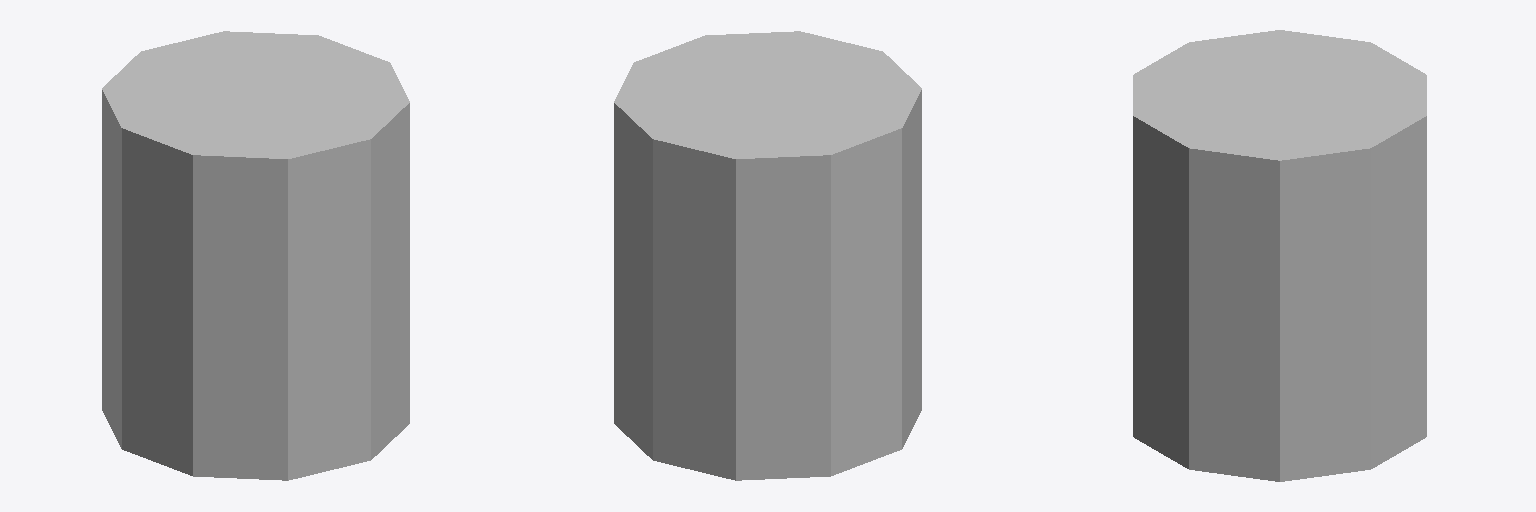
File: BuildingV3.obj
3 views of the same model, side by side, from view 1: azimuth 30°, elevation 25°; view 2: azimuth 150°, elevation 25°; view 3: azimuth 270°, elevation 25° (orthographic).
Parts seen in each view (by area): view 1: polySurface28; view 2: polySurface28; view 3: polySurface28.
Part boxes in pixels (x1,y1,x2,y2): polySurface28: (102, 31, 409, 480); polySurface28: (614, 31, 921, 480); polySurface28: (1133, 30, 1426, 481).
Bounding box in the file's own units: 4 × 4.58 × 3.82.